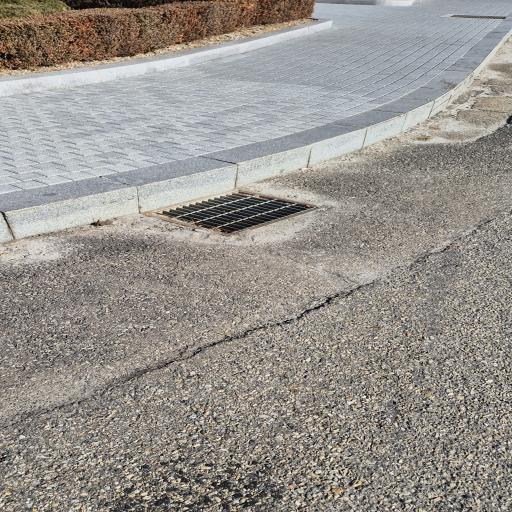drain: (147, 190, 316, 236)
